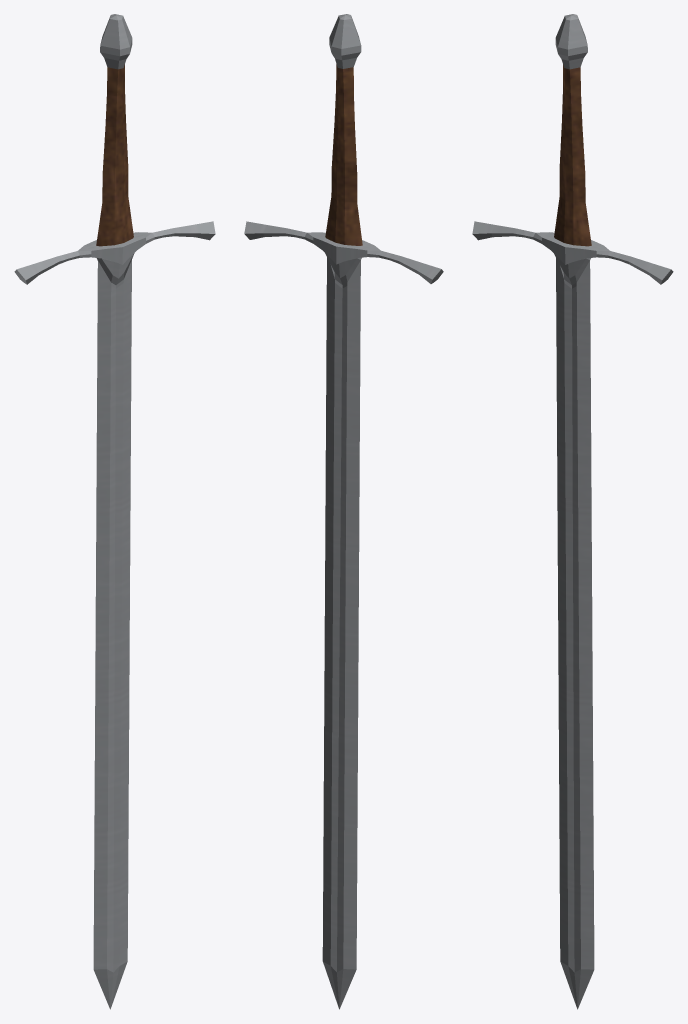
File: Sword.fbx
3 renders of one model, left to right at view 1: azimuth 30°, elevation 25°; view 2: azimuth 150°, elevation 25°; view 3: azimuth 330°, elevation 25°, orthographic.
Visible parts, largest first — view 1: Sword; view 2: Sword; view 3: Sword.
Boxes of the visible parts, left/top/right/bottom form: Sword: left=14, top=14, right=215, bottom=1009; Sword: left=244, top=14, right=443, bottom=1009; Sword: left=472, top=14, right=673, bottom=1009.
Size of the model in its own units: 0.3079 by 1.49 by 0.0487.
